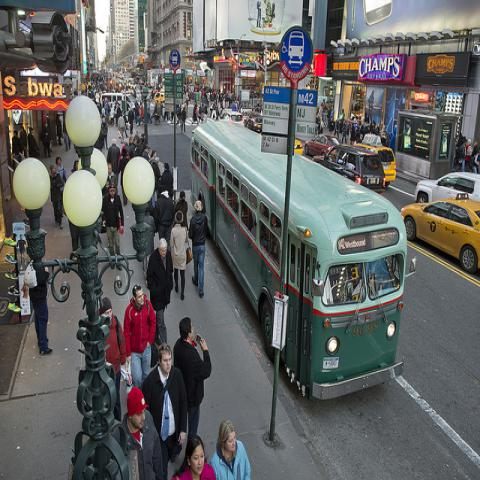bus: (190, 117, 408, 400)
car: (400, 192, 480, 274), (313, 145, 387, 193), (352, 140, 396, 188), (415, 172, 479, 204), (101, 93, 139, 123), (304, 134, 342, 156), (215, 110, 245, 127), (242, 111, 262, 132), (154, 92, 165, 104)
